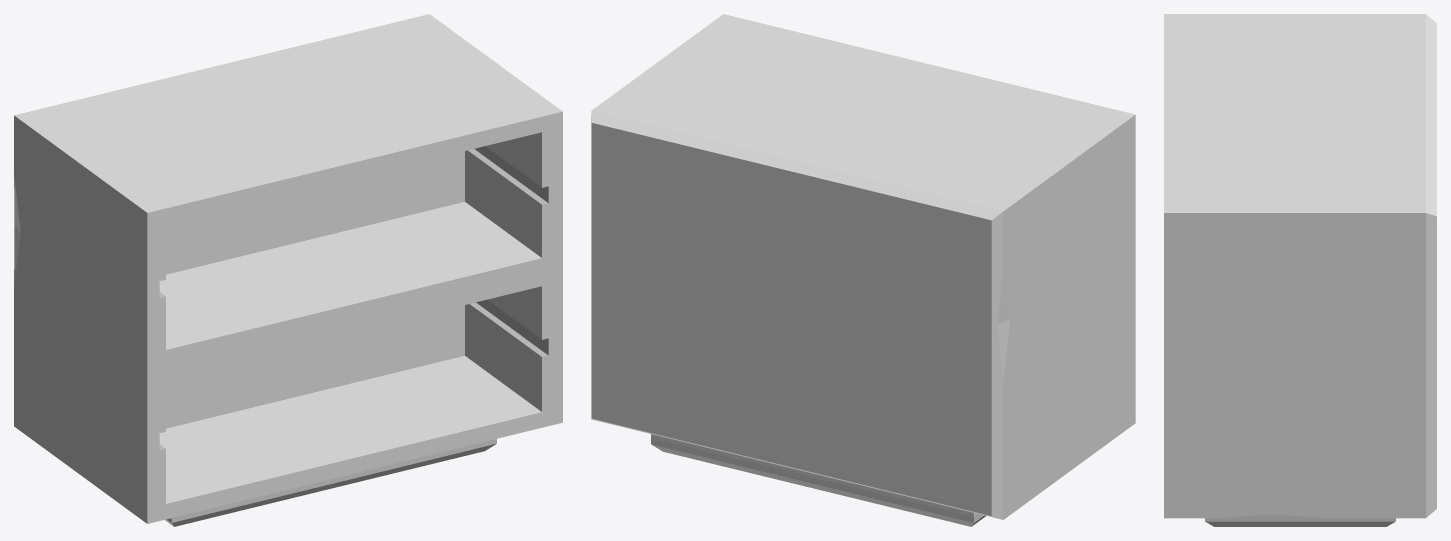
Rendered from SM_Prop_Bedside_Table_01.obj.
The picture shows the model from 3 angles, left to right: view 1: azimuth 30°, elevation 25°; view 2: azimuth 150°, elevation 25°; view 3: azimuth 270°, elevation 25°; orthographic projection.
Parts seen in each view (by area): view 1: SM_Prop_Bedside_Table_01_0; view 2: SM_Prop_Bedside_Table_01_0; view 3: SM_Prop_Bedside_Table_01_0.
Boxes of the visible parts, x1,y1,x2,y2 form: SM_Prop_Bedside_Table_01_0: (14,14,562,526); SM_Prop_Bedside_Table_01_0: (591,14,1135,526); SM_Prop_Bedside_Table_01_0: (1164,14,1436,526).
Bounding box in the file's own units: 0.7266 × 0.5772 × 0.4208.
1 material, 1 textured.
